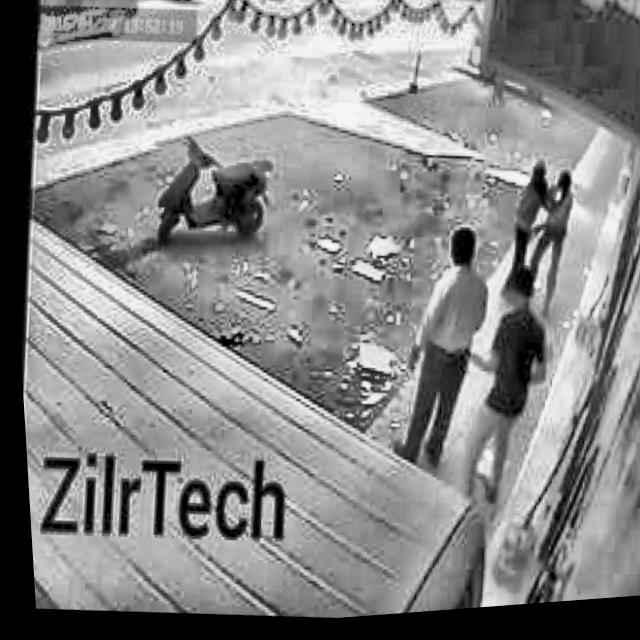robbery: (375, 219, 564, 519), (492, 156, 582, 336)
